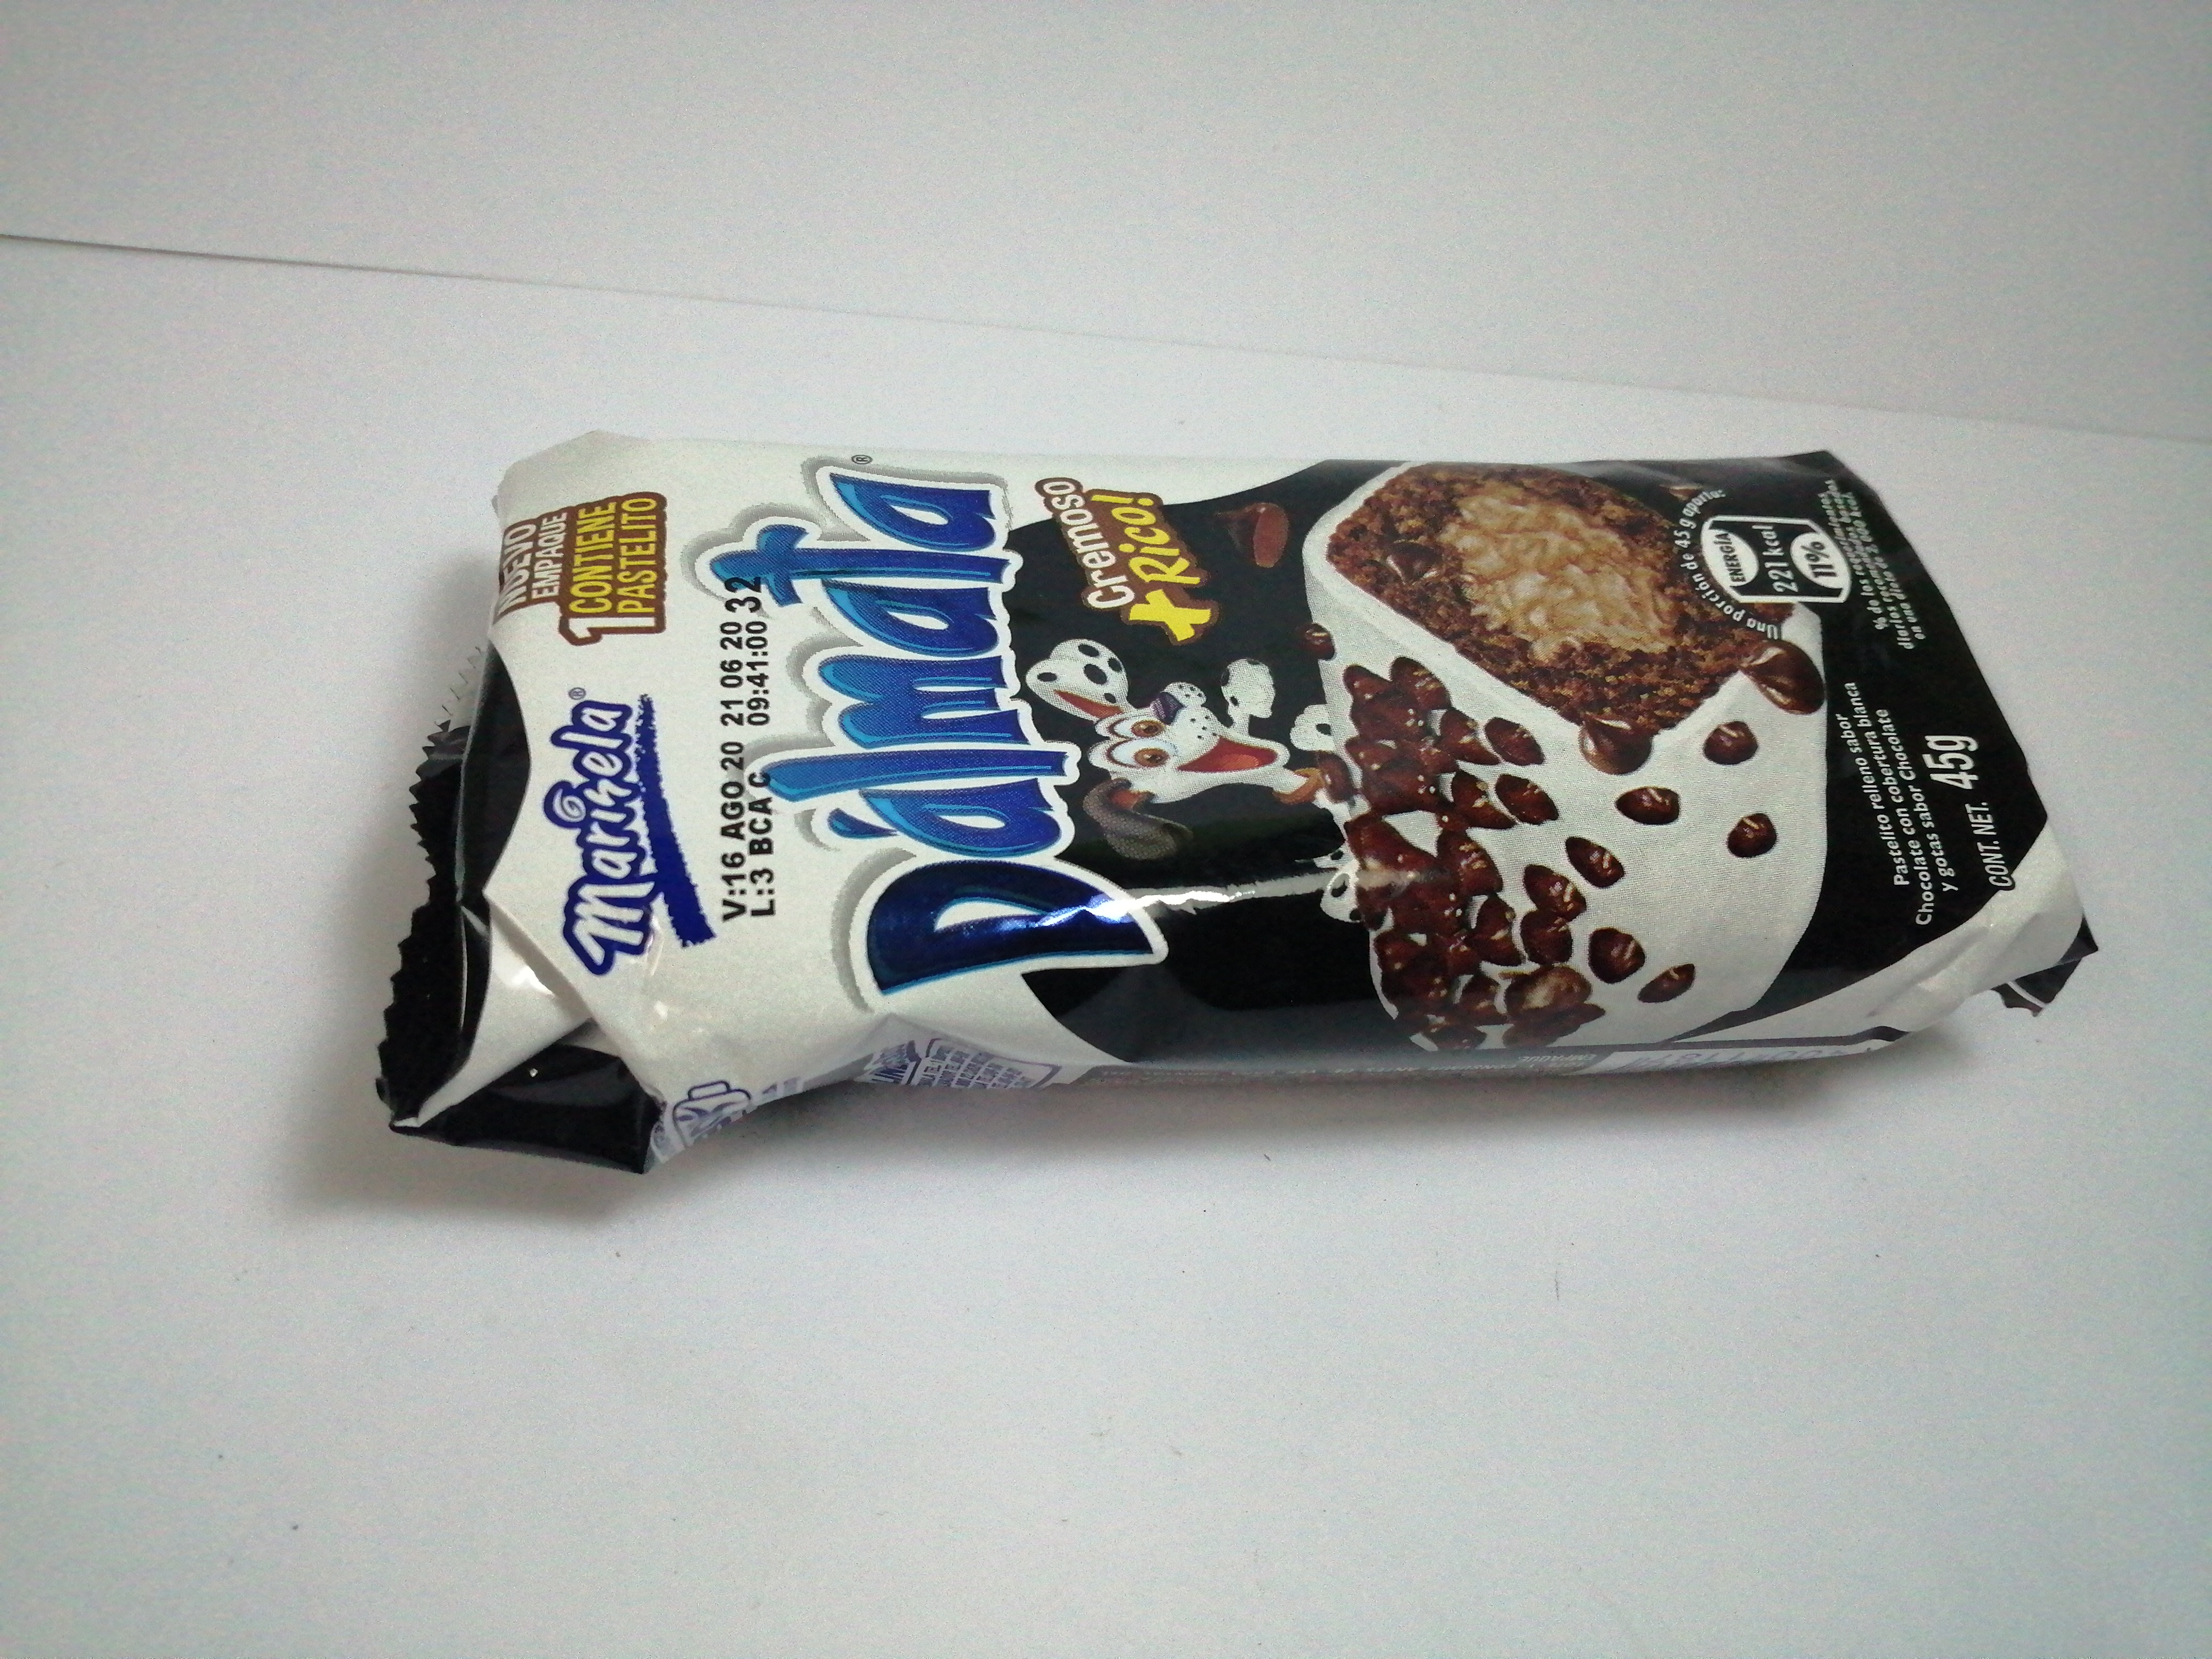dalmata: (348, 406, 2109, 1176)
